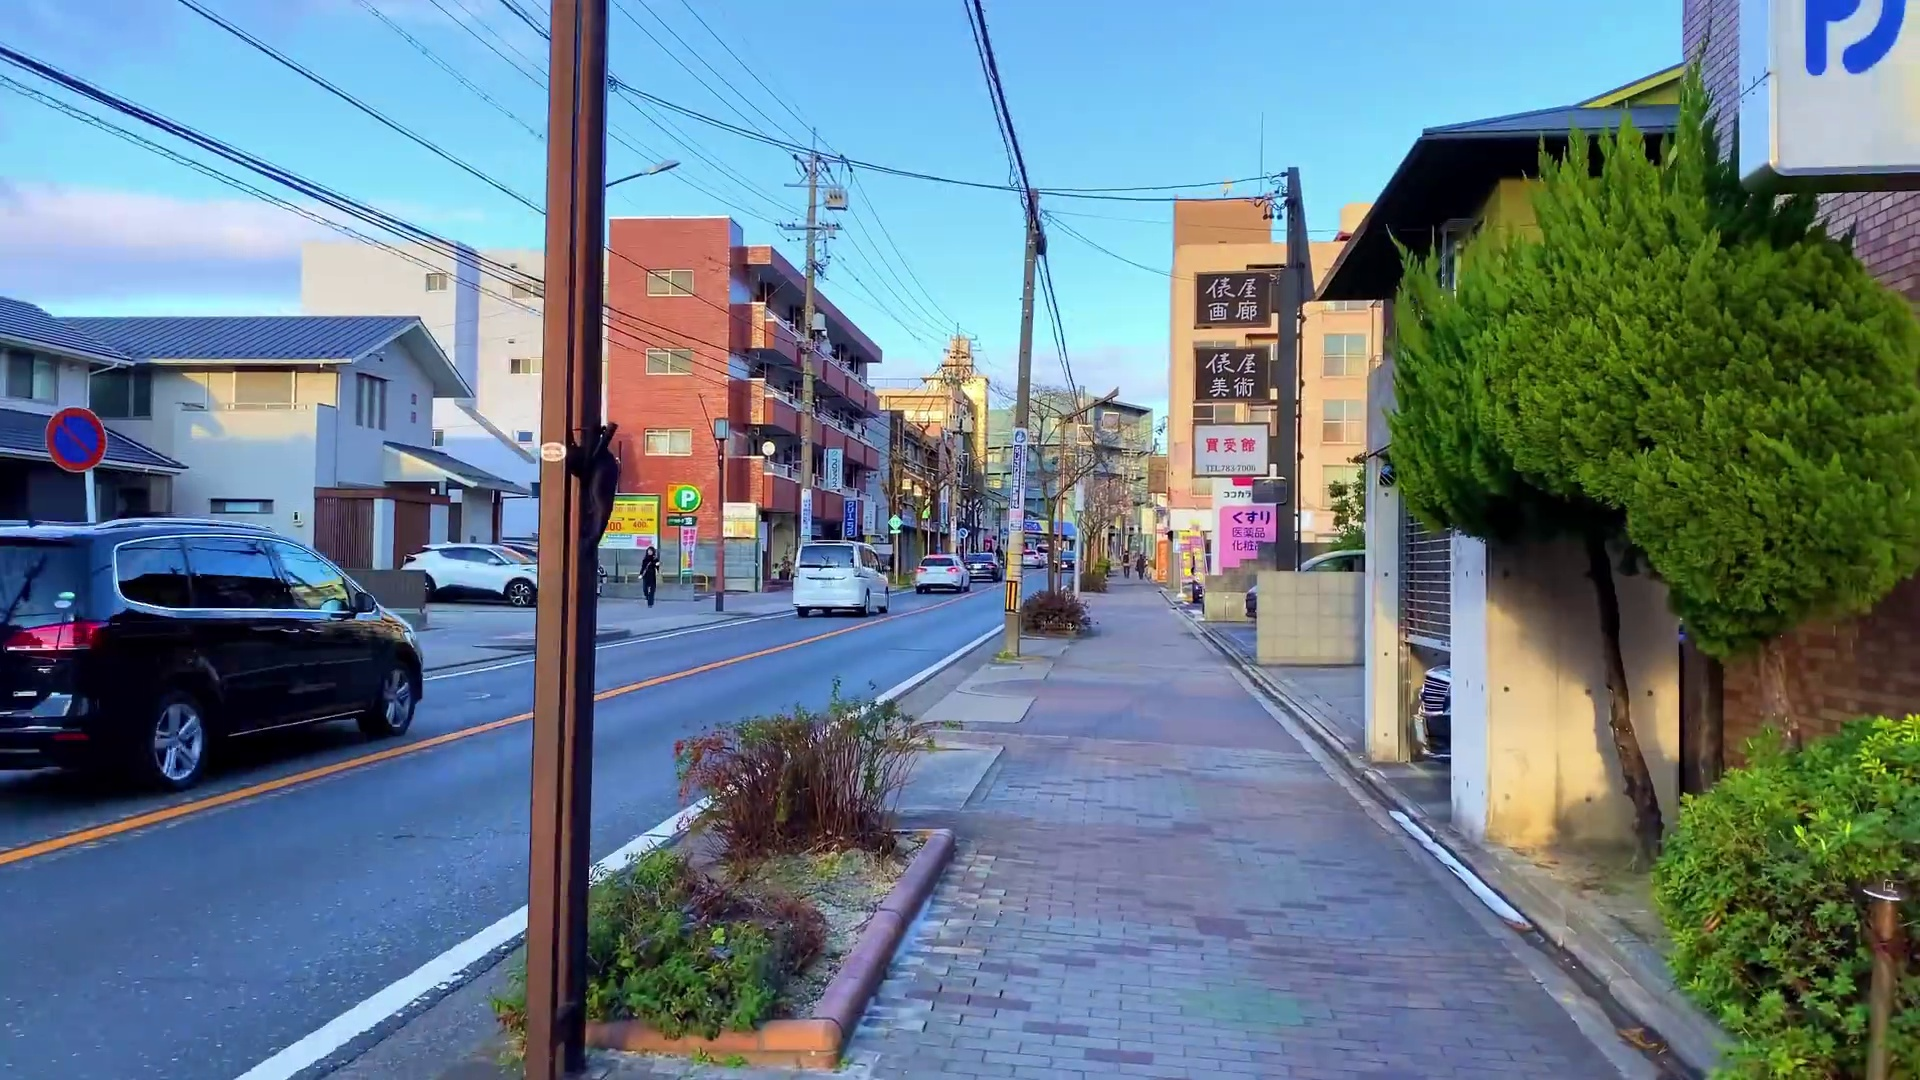car: (4, 522, 423, 793), (787, 535, 894, 615)
